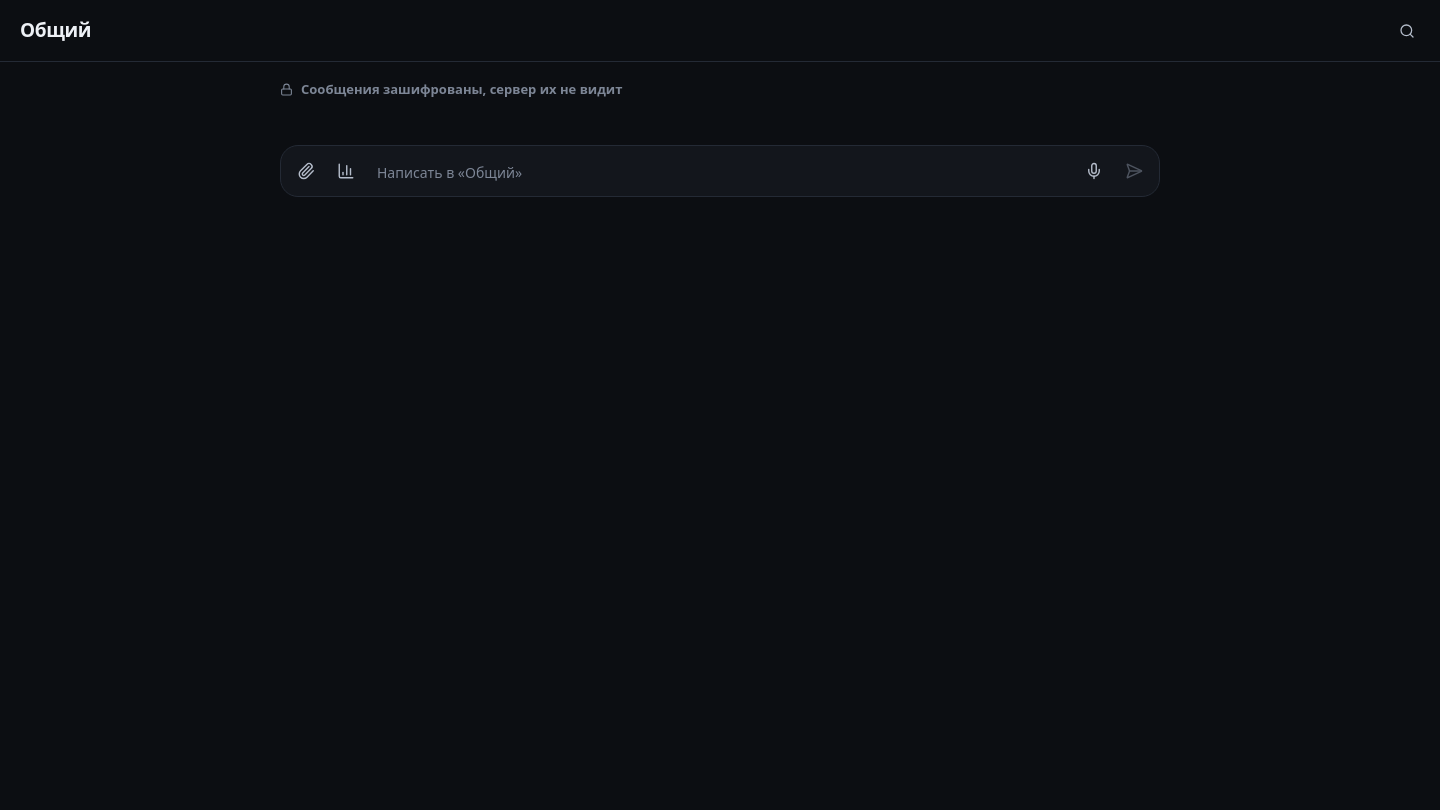
Test: attachments › a big video plays in the editor from the file itself, in pieces, never read whole
Step 1. Click the button named "Прикрепить" → (306, 171), box [287,152,325,190]
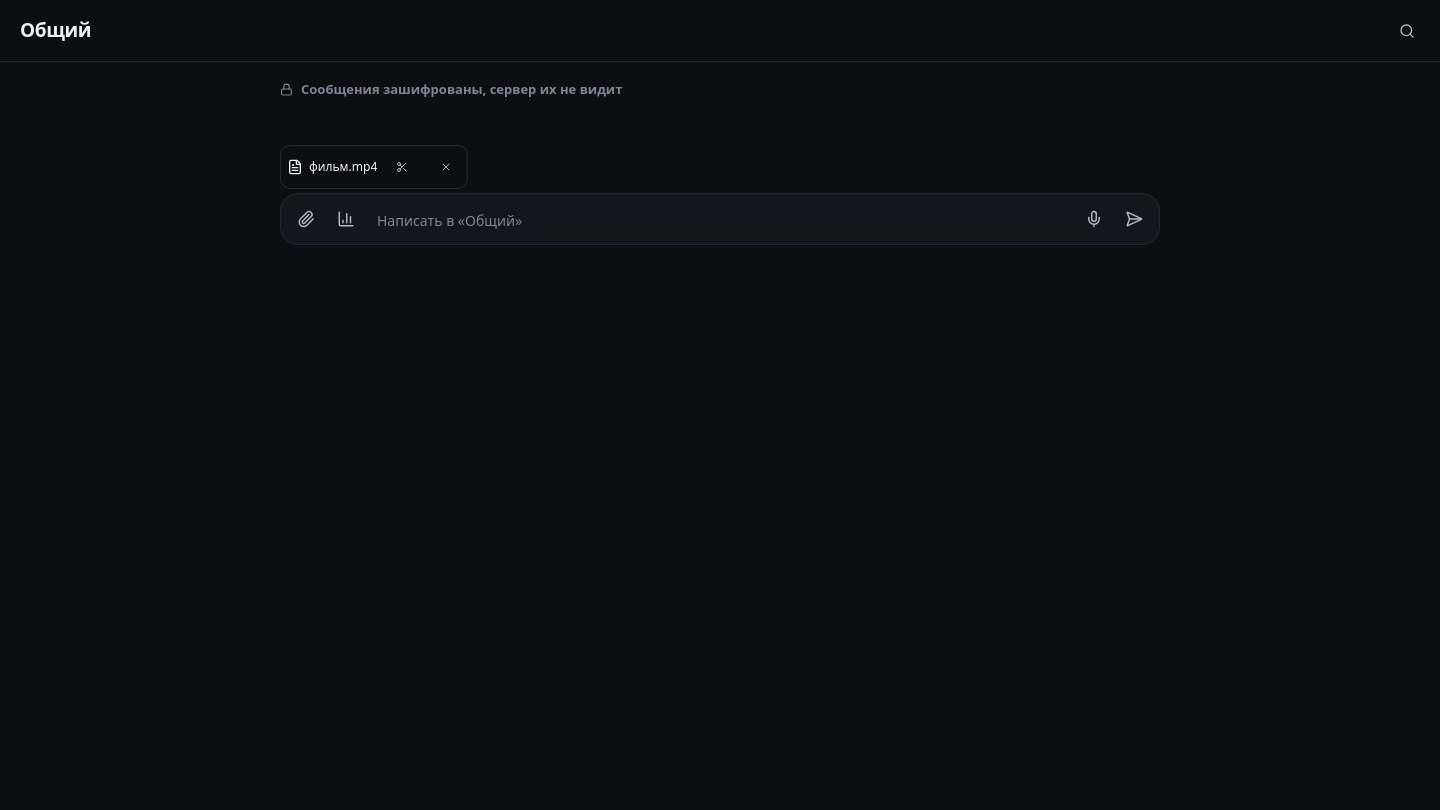
Step 2. Click the button named "Монтаж «фильм.mp4»" → (402, 167), box [383,148,421,186]
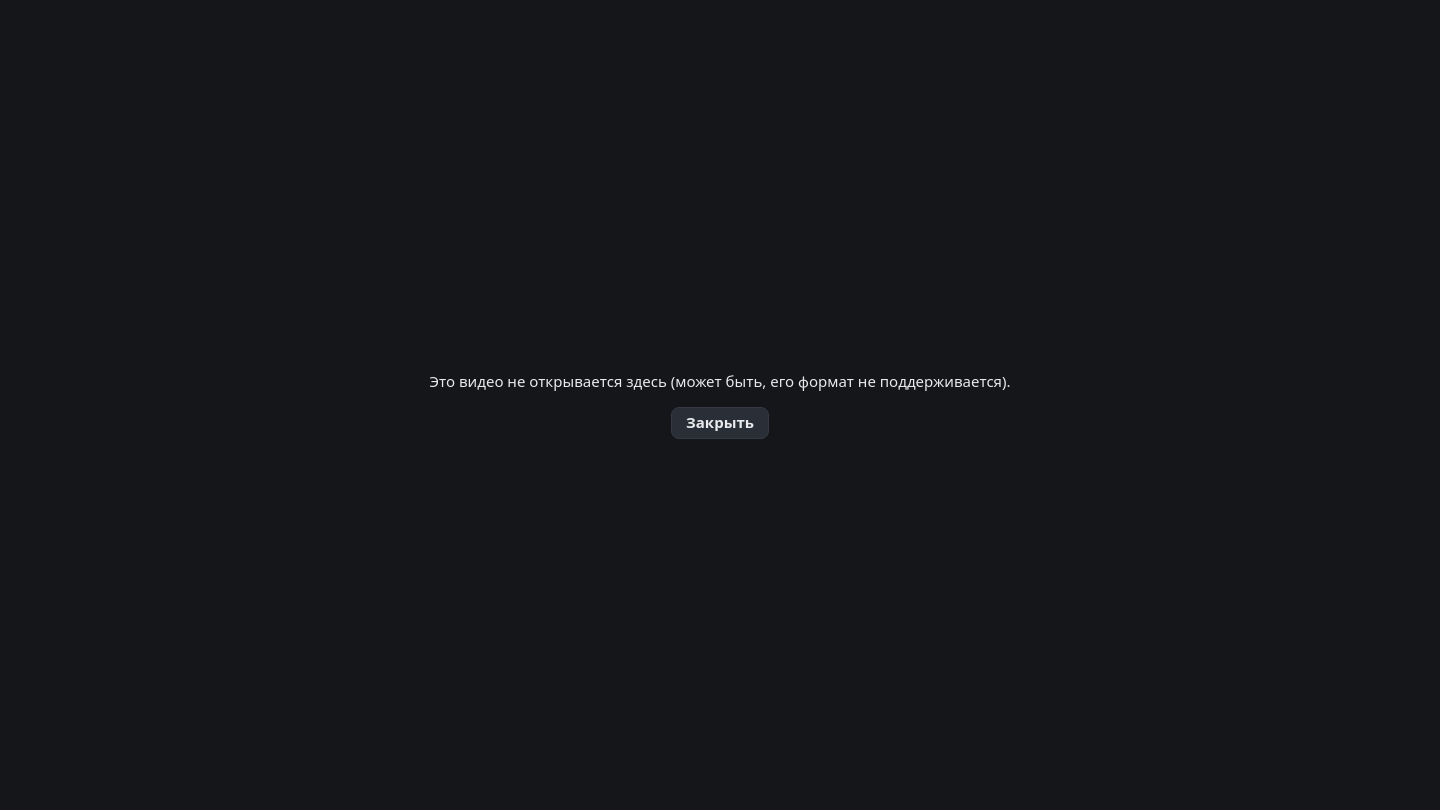
Check: the dialog named "Видеоредактор" is shown
